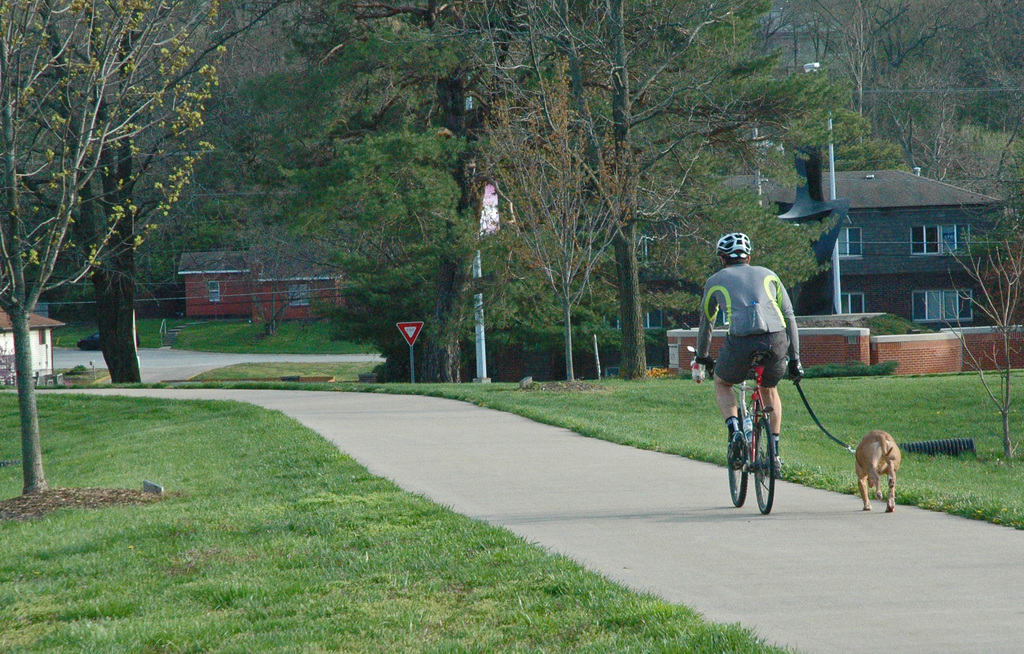Bike_away: (684, 346, 808, 519)
